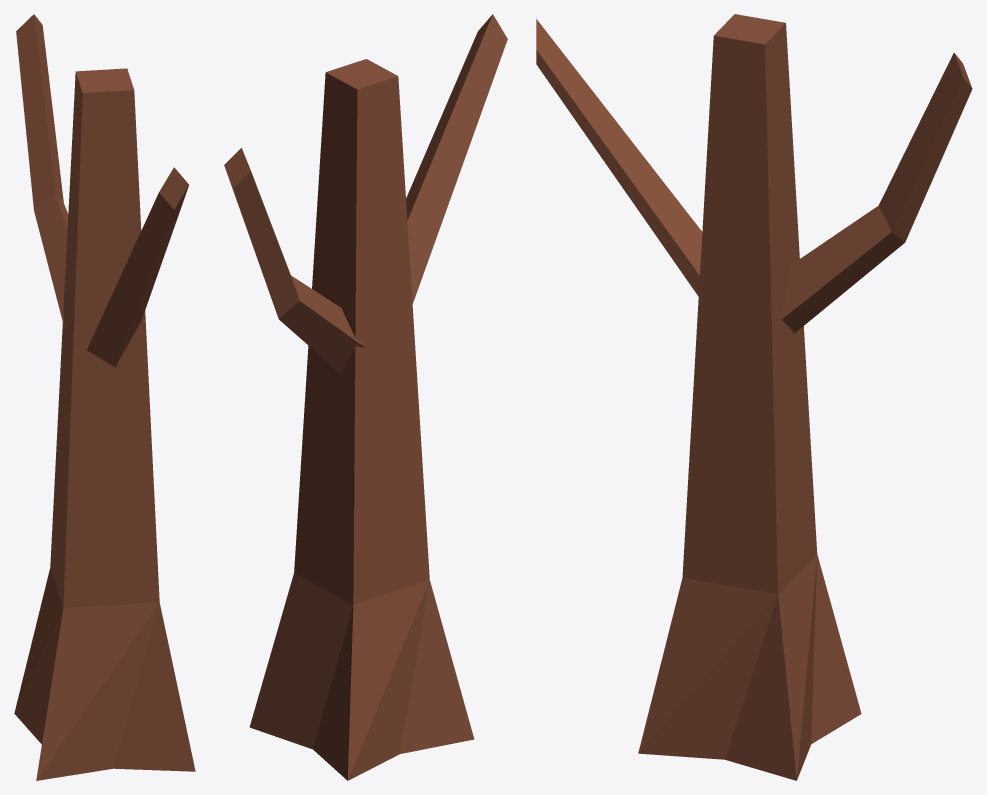
Rendered from Tree_37_spring_mat.fbx.
The picture shows the model from 3 angles, left to right: view 1: azimuth 30°, elevation 25°; view 2: azimuth 150°, elevation 25°; view 3: azimuth 270°, elevation 25°; orthographic projection. The views are drawn at different scales.
Parts seen in each view (by area): view 1: Tree_37_spring_mat; view 2: Tree_37_spring_mat; view 3: Tree_37_spring_mat.
Boxes of the visible parts, x1,y1,x2,y2 form: Tree_37_spring_mat: (14,14,195,780); Tree_37_spring_mat: (224,14,507,780); Tree_37_spring_mat: (536,14,972,780).
Bounding box in the file's own units: 46.09 × 160 × 89.99.
